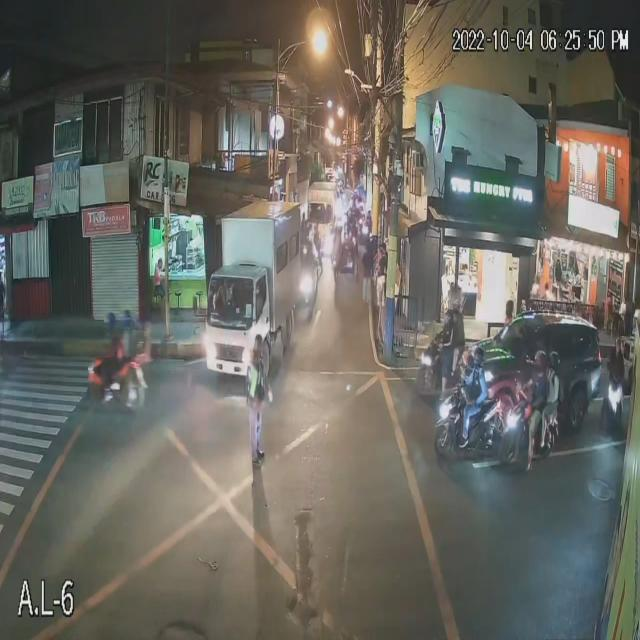Full-Faced: (544, 348, 560, 376), (460, 347, 474, 378), (101, 311, 119, 334), (534, 347, 548, 375), (470, 344, 484, 369)
